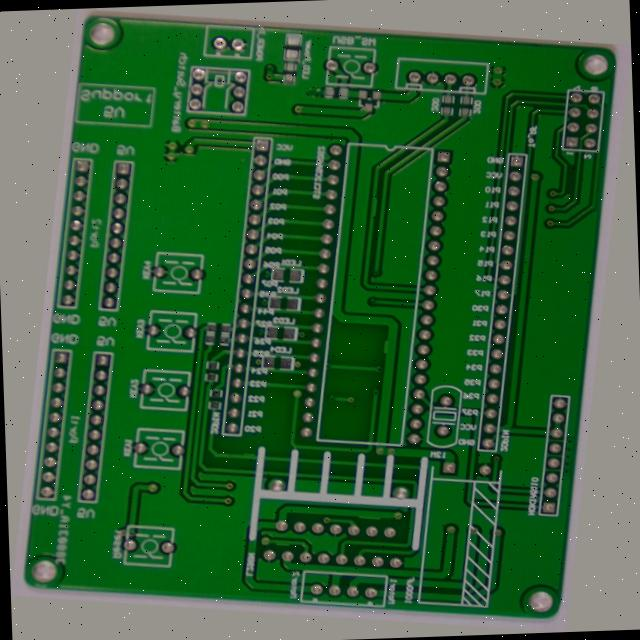spur: (350, 175, 371, 208), (389, 519, 425, 532), (390, 330, 406, 352), (301, 557, 324, 571), (250, 466, 269, 478)
